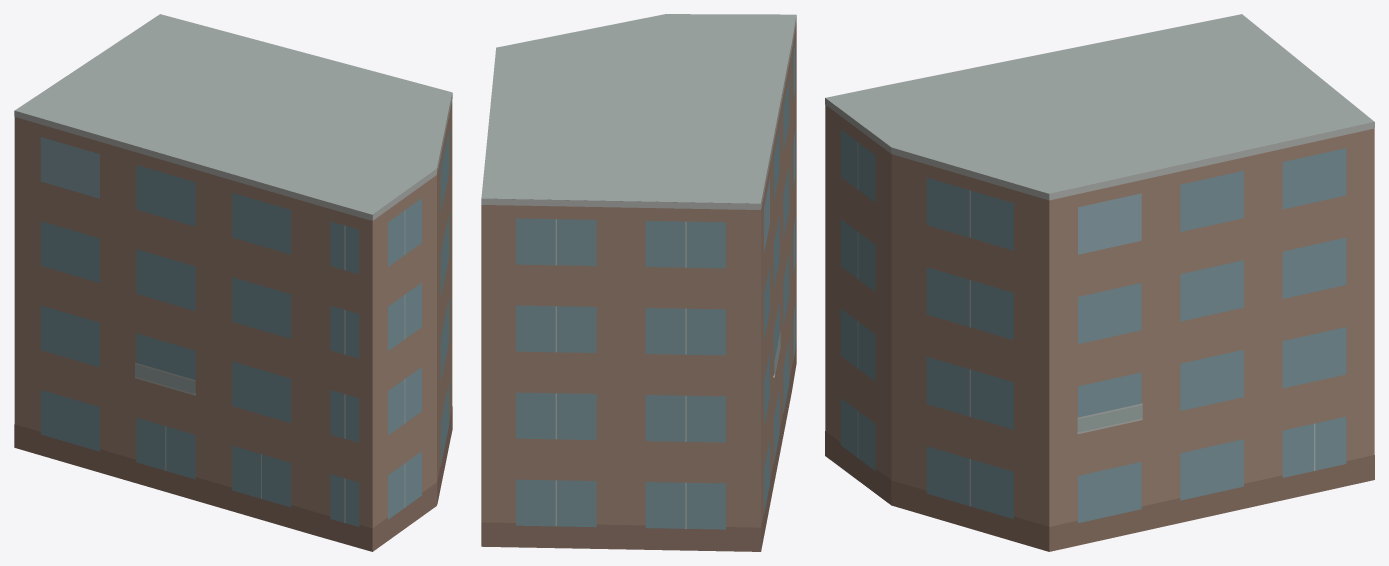
Rendered from survey-upis-32911380.glb.
3 views of the same model, side by side, from view 1: azimuth 30°, elevation 25°; view 2: azimuth 150°, elevation 25°; view 3: azimuth 270°, elevation 25° (orthographic). The views are drawn at different scales.
Parts seen in each view (by area): view 1: survey-upis-32911380.tmp; view 2: survey-upis-32911380.tmp; view 3: survey-upis-32911380.tmp.
Boxes of the visible parts, left/top/right/bottom form: survey-upis-32911380.tmp: left=14, top=14, right=452, bottom=551; survey-upis-32911380.tmp: left=481, top=14, right=796, bottom=551; survey-upis-32911380.tmp: left=825, top=14, right=1374, bottom=551.
Size of the model in its own units: 14.29 by 13.25 by 18.45.
